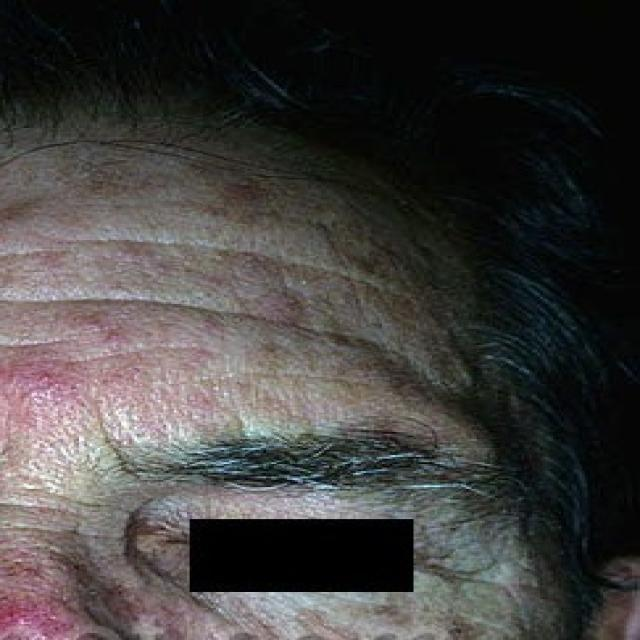Rosacea: (16, 356, 92, 422)
